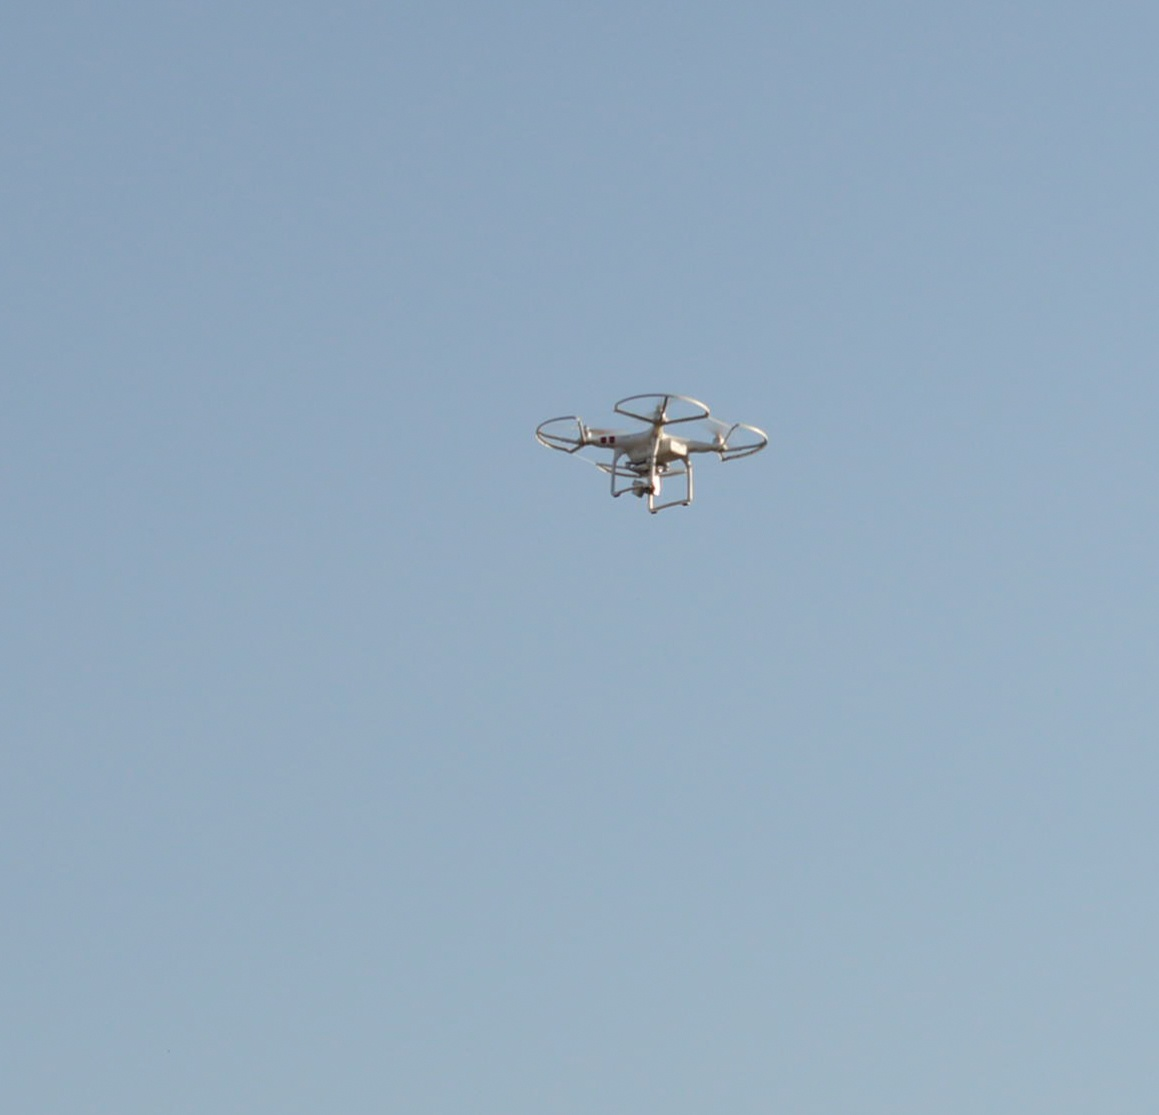DJI: (535, 389, 767, 514)
